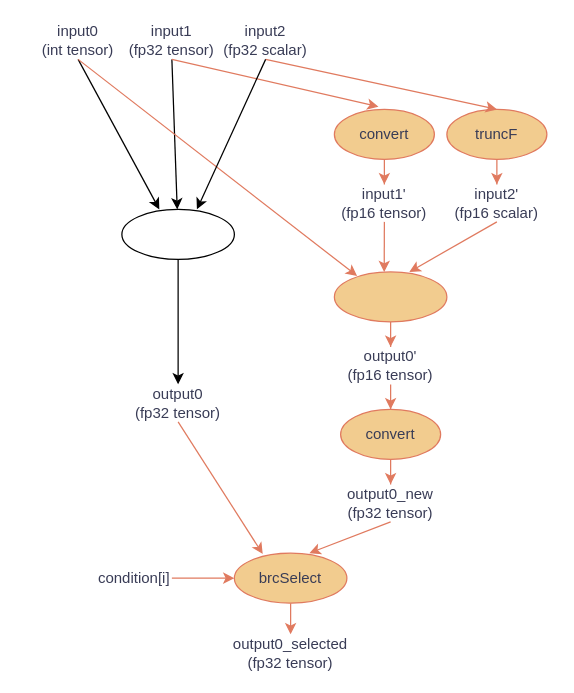
The diagram is 574 pixels wide and 693 high, and some of its shapes have lost their labels. Each missing label, with the centre of its shape:
"op" belongs at point 177,233.
"op_new" belongs at point 390,296.
